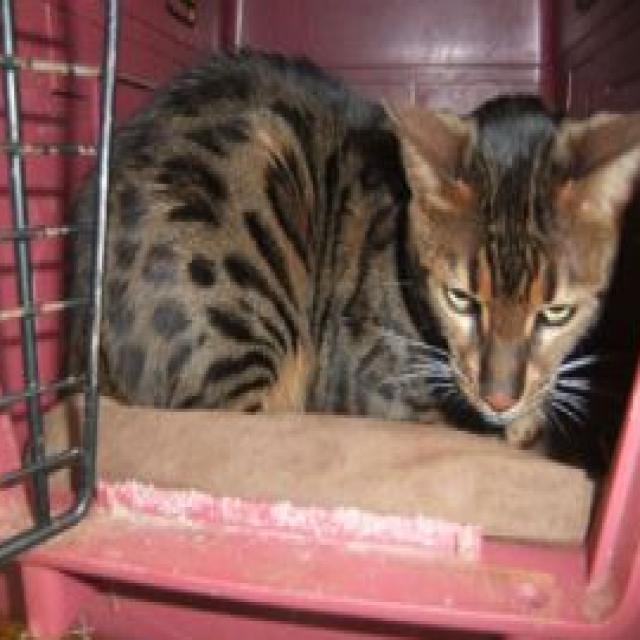Bengal: (50, 38, 640, 463)
